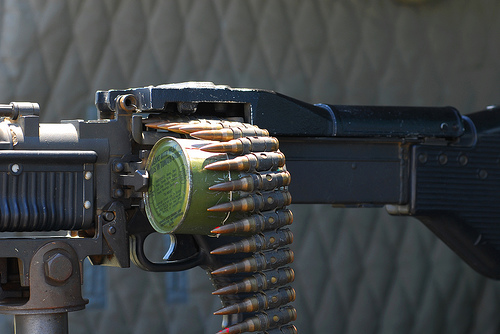rifle: (1, 72, 495, 327)
